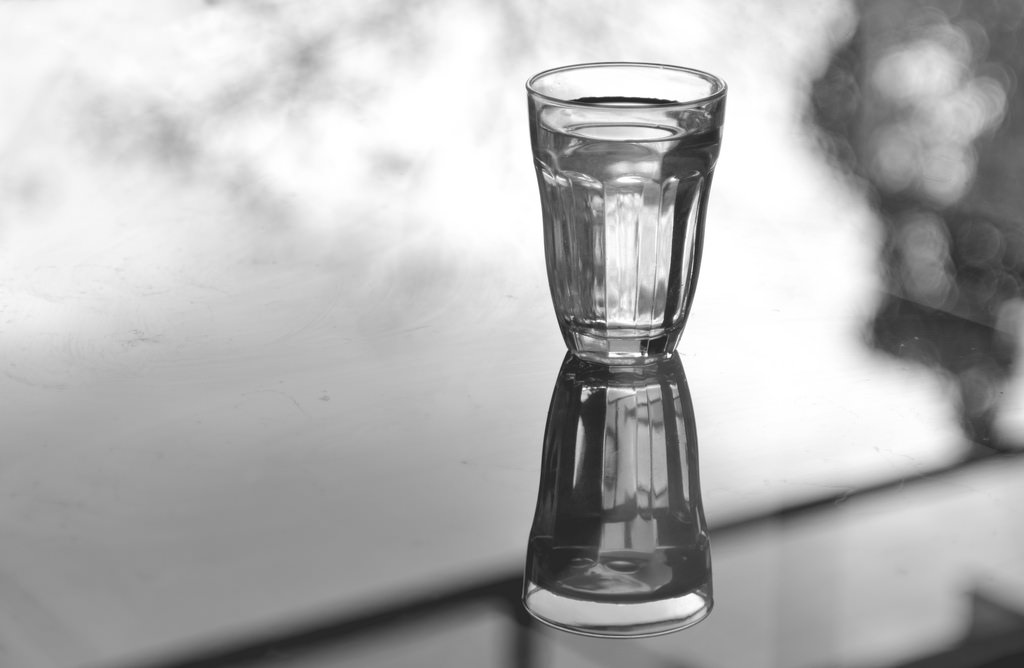glass of water: (514, 70, 727, 357)
